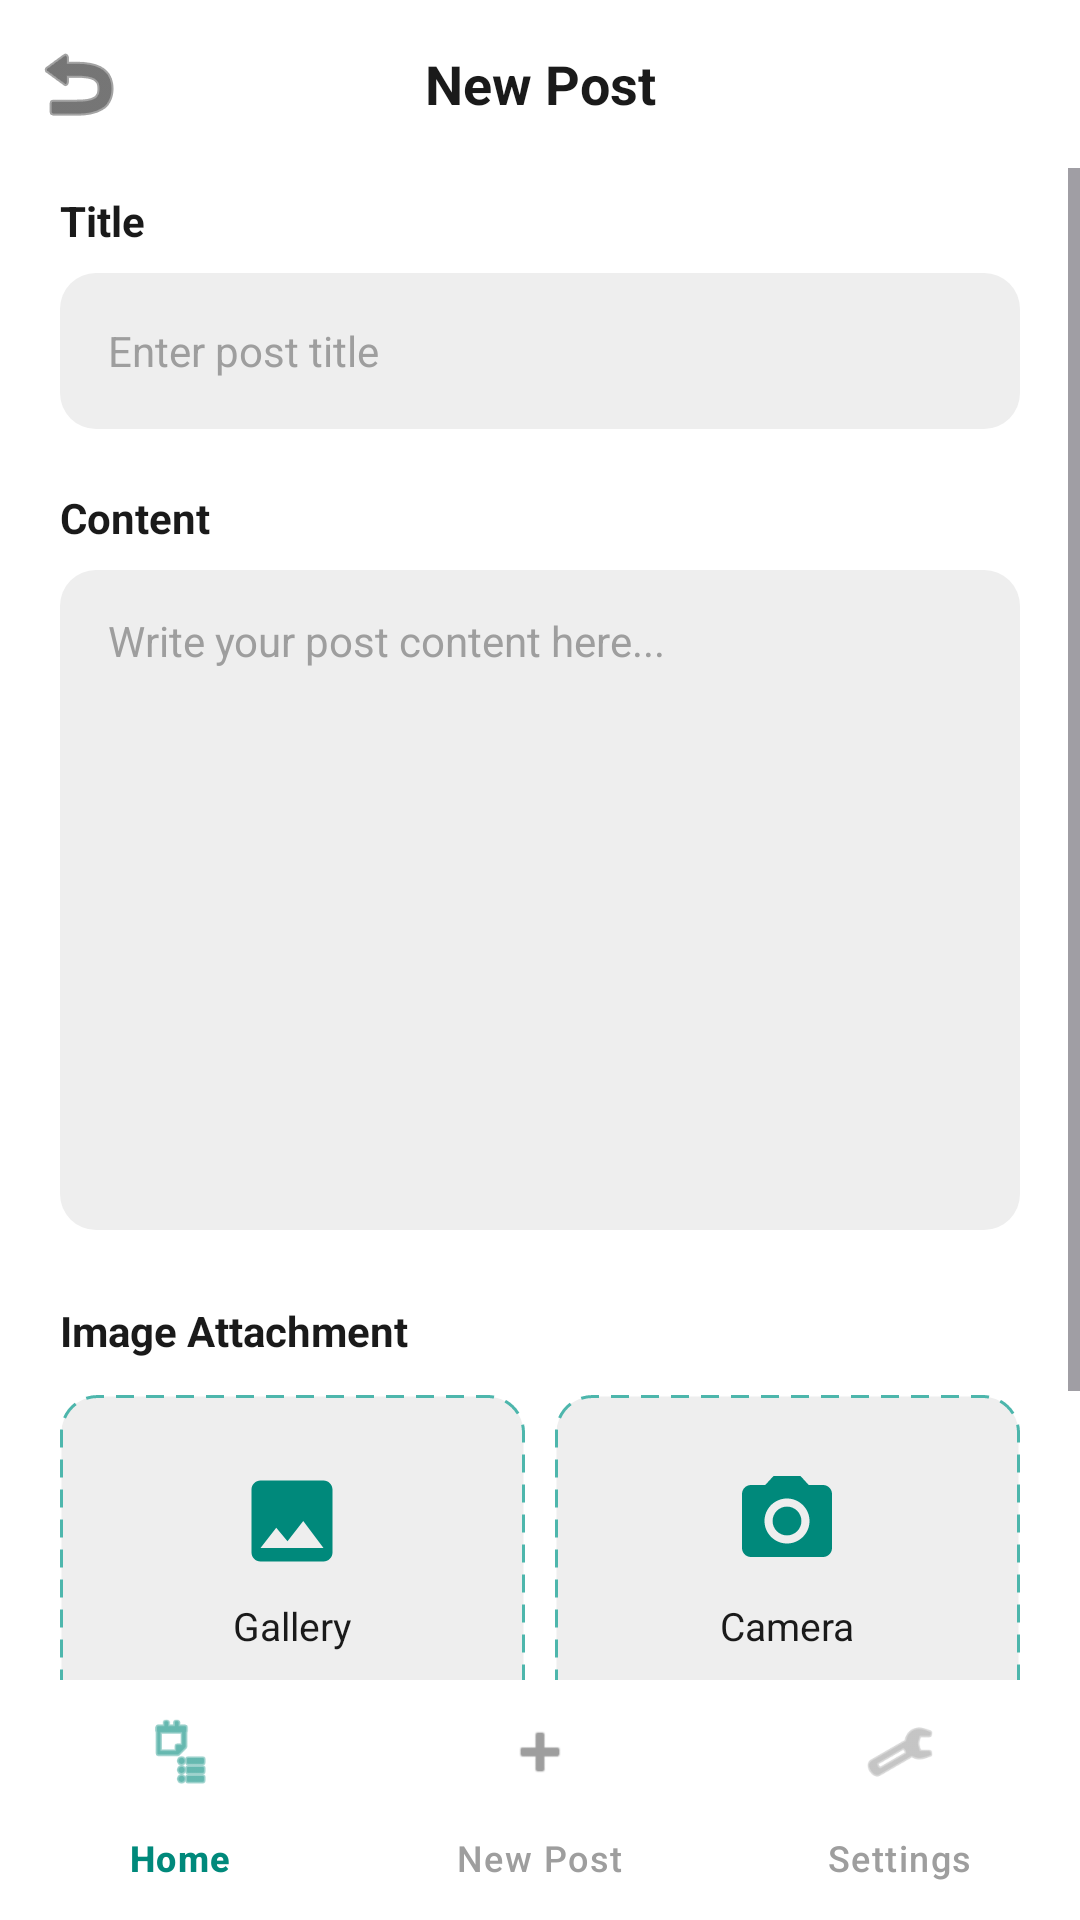

Icon bounding boxes for this 1080w x 1920h phone screenshot, format (x1, y1, x2, y2):
back: (45, 53, 114, 116)
